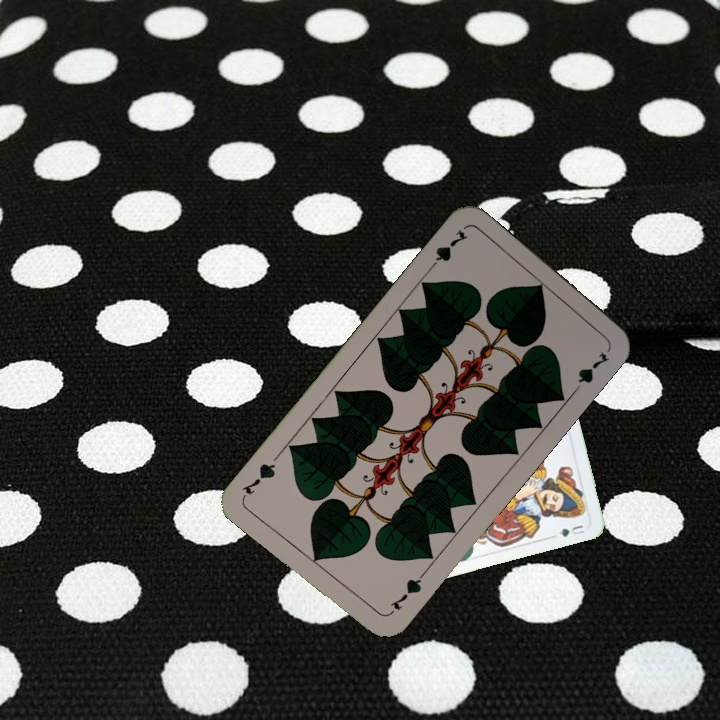G7: (424, 225, 471, 275), (384, 569, 428, 618)
